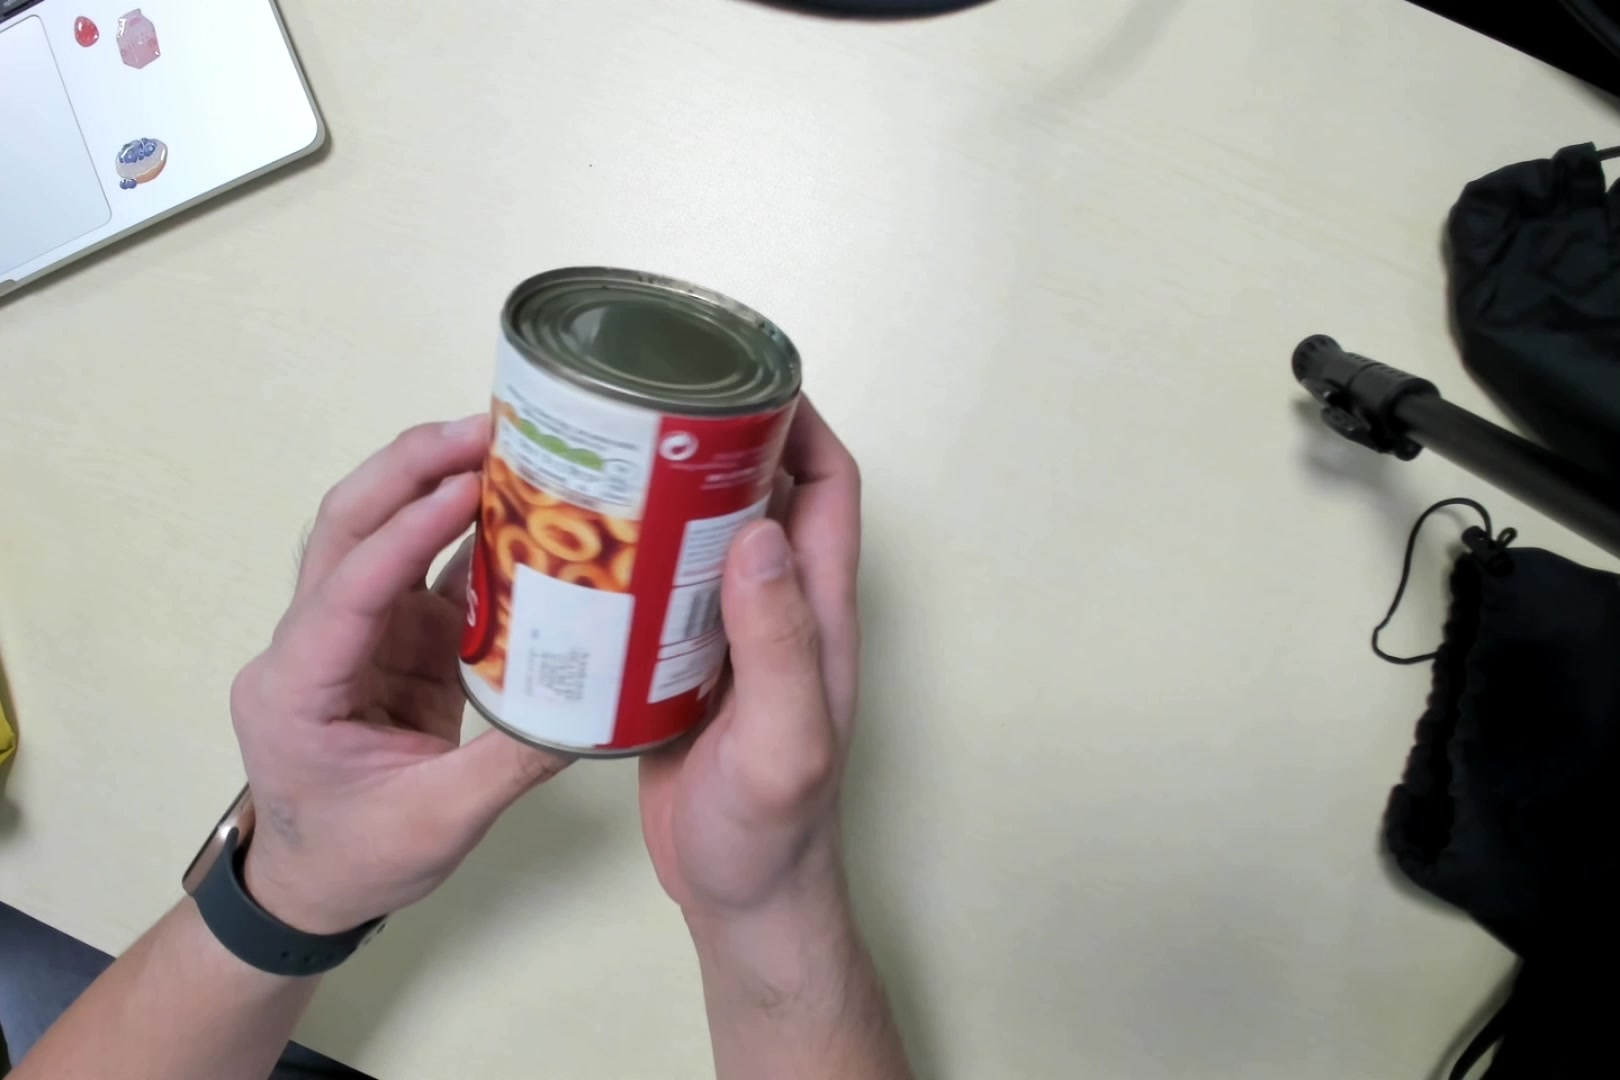InstantMeals_400-499g_NonHalal_NonHealthy: (466, 262, 782, 755)
